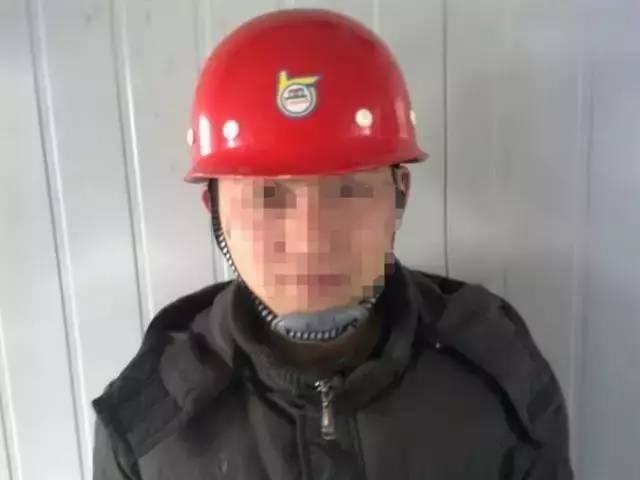helmet: (171, 5, 433, 189)
